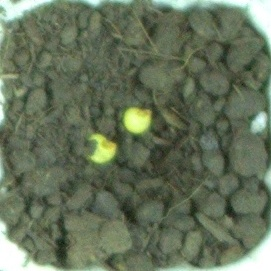pepper seed: (45, 38, 200, 174), (24, 49, 144, 215)
